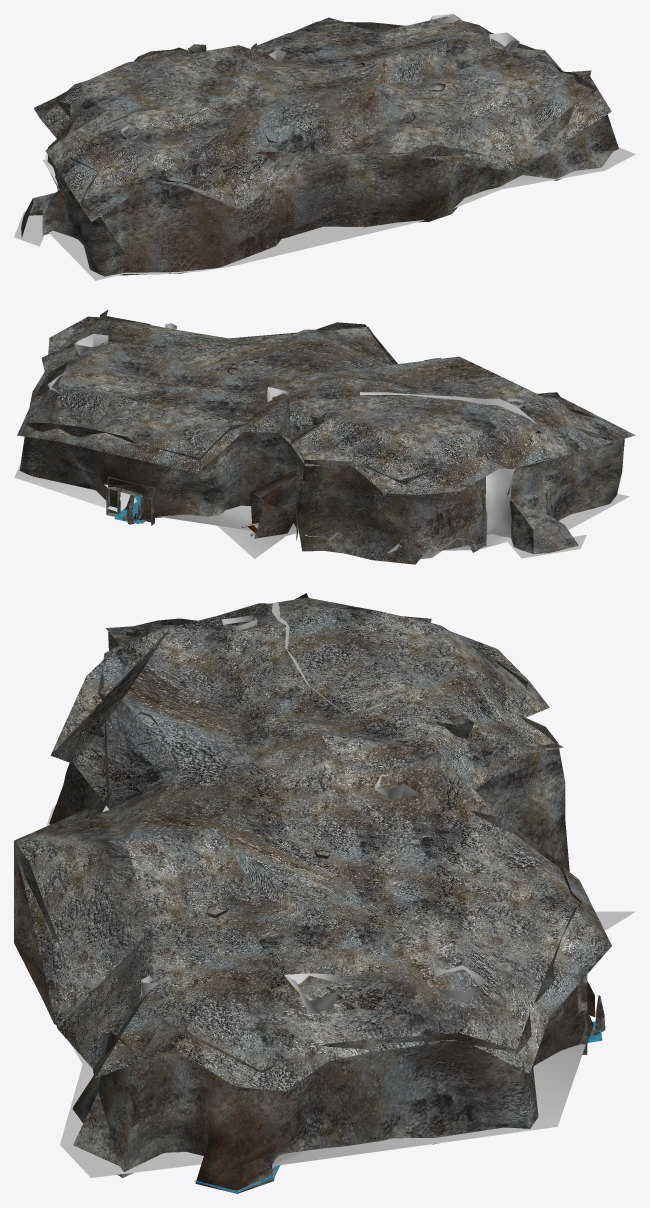
File: grotta.fbx
3 views of the same model, one above another, from view 1: azimuth 30°, elevation 25°; view 2: azimuth 150°, elevation 25°; view 3: azimuth 270°, elevation 25° (orthographic). The views are drawn at different scales.
Visible parts, largest first — view 1: Tetto, Muri, muro_sinistro, Campo, Stallattite13; view 2: Tetto, Muri, muro_sinistro, Campo, Arco, Fognatura, Stallattite13; view 3: Tetto, Muri, Campo, Stallattite13, Fognatura, Stallattite1.
Part boxes in pixels (x1,y1,x2,y2): Tetto: (34, 16, 611, 221); Muri: (47, 21, 618, 275); muro_sinistro: (21, 101, 127, 276); Campo: (14, 147, 635, 280); Stallattite13: (430, 14, 519, 51); Tetto: (17, 316, 635, 494); Muri: (19, 310, 594, 564); muro_sinistro: (467, 415, 624, 553); Campo: (14, 464, 629, 559); Arco: (359, 392, 536, 546); Fognatura: (106, 476, 154, 525); Stallattite13: (48, 334, 108, 395); Tetto: (16, 598, 611, 1091); Muri: (14, 628, 595, 1193); Campo: (46, 805, 635, 1177); Stallattite13: (284, 965, 486, 1013); Fognatura: (577, 975, 605, 1054); Stallattite1: (127, 704, 474, 917).
Size of the model in its own units: 128 by 26.23 by 72.39.
